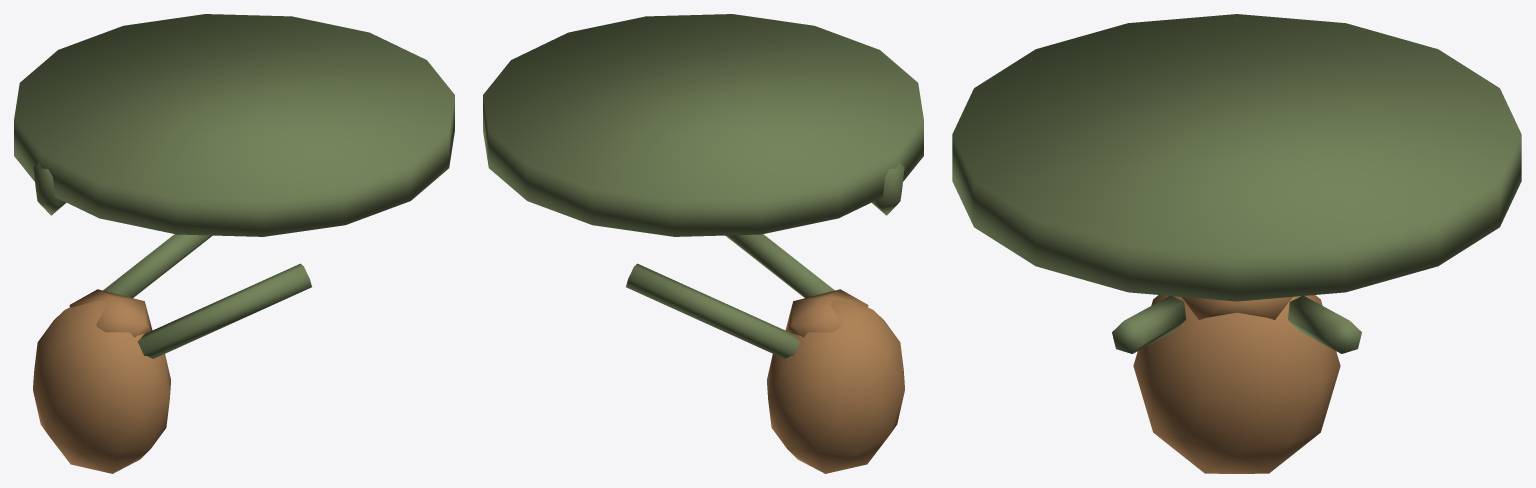
Rendered from sm_prop_gatherer_gear.glb.
The picture shows the model from 3 angles, left to right: view 1: azimuth 30°, elevation 25°; view 2: azimuth 150°, elevation 25°; view 3: azimuth 270°, elevation 25°; orthographic projection. The views are drawn at different scales.
Visible parts, largest first — view 1: sm_prop_gatherer_gear; view 2: sm_prop_gatherer_gear; view 3: sm_prop_gatherer_gear.
Boxes of the visible parts, box(x1,y1,x2,y2) form: sm_prop_gatherer_gear: box(14, 14, 454, 473); sm_prop_gatherer_gear: box(483, 14, 923, 473); sm_prop_gatherer_gear: box(952, 14, 1521, 473).
Bounding box in the file's own units: 0.8335 × 0.6757 × 0.824.
